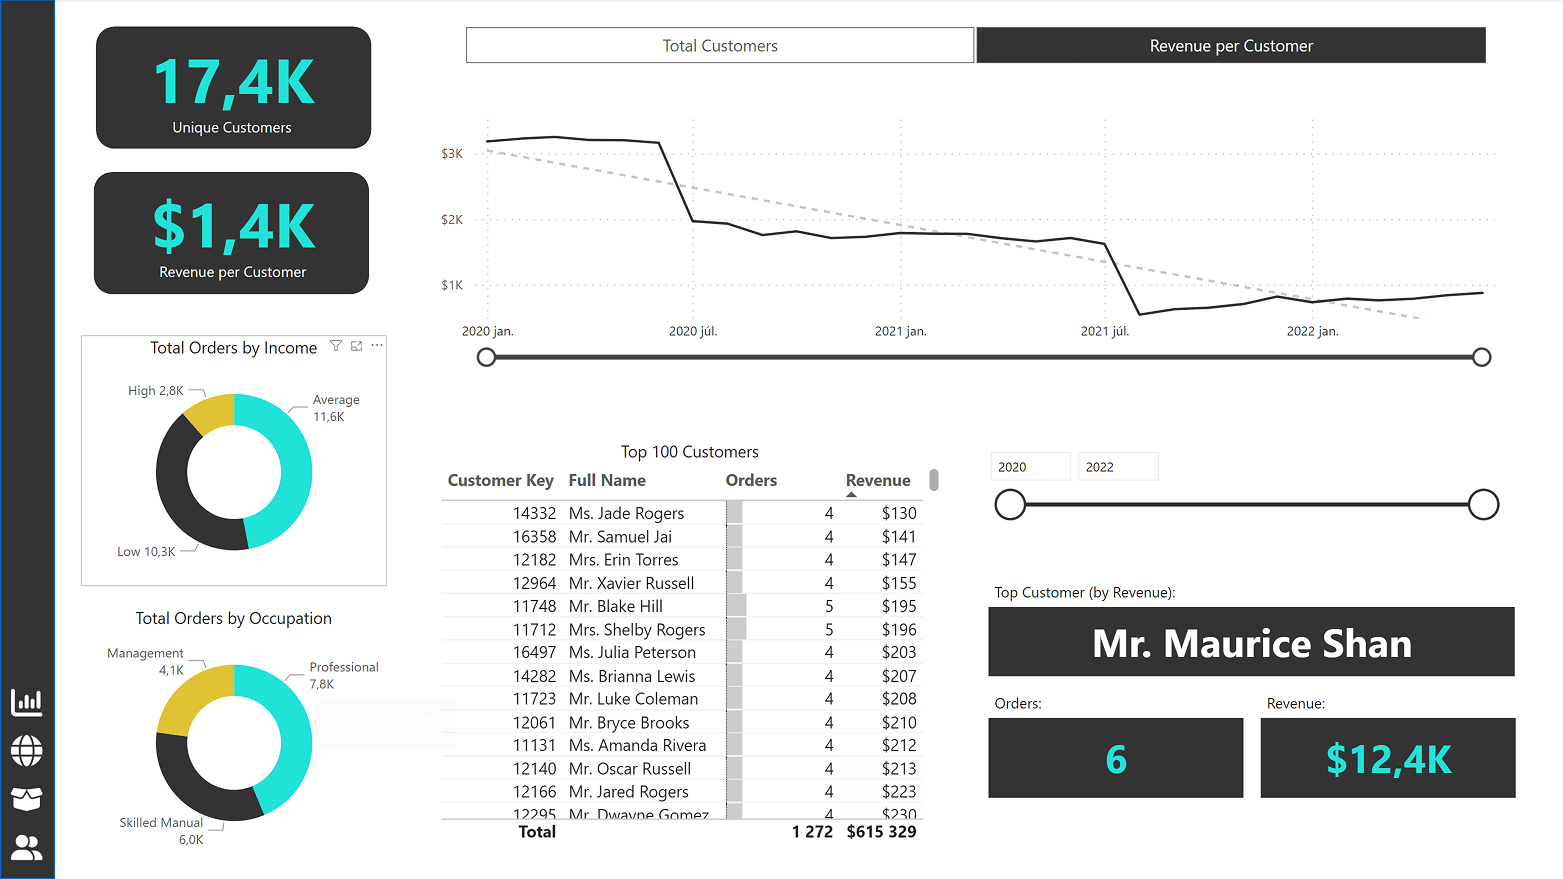

The dashboard page shown, as its layout file describes it:
{"tool":"powerbi","page":{"name":"Customer Detail","canvas":[1280,720],"ordinal":3},"visuals":[{"type":"shape","box":[0,0,45,720],"z":0},{"type":"group","id":"g1","title":"KPIs","box":[76.4,22.1,227.9,218.6],"z":1000},{"type":"actionButton","box":[4.8,637.5,33.8,33.8],"z":1000,"group":"g4"},{"type":"group","id":"g2","title":"KPI Background","box":[76.4,22.1,227.4,219],"z":2000,"group":"g1"},{"type":"card","fields":{"Values":["Measure Table.Total Customers"]},"box":[86.2,23.4,206,95.3],"z":2000,"group":"g3"},{"type":"lineChart","title":"Weekly Customers","fields":{"Category":["Calendar Lookup.Start of Year Hierarchy.Year","Calendar Lookup.Start of Year Hierarchy.Start of Month","Calendar Lookup.Start of Year Hierarchy.Start of Week","Calendar Lookup.Start of Year Hierarchy.Date"],"Y":["Measure Table.Total Customers"]},"box":[355.4,84.6,884.6,219.2],"z":2000},{"type":"shape","box":[76.4,141.1,225.3,100],"z":2000,"group":"g2"},{"type":"actionButton","box":[4.7,598,33.8,33.8],"z":2000,"group":"g4"},{"type":"shape","box":[78.4,22.1,225.3,100],"z":3000,"group":"g2"},{"type":"group","id":"g3","title":"KPI Values","box":[86.2,23.4,206.8,213.5],"z":3000,"group":"g1"},{"type":"card","fields":{"Values":["Measure Table.Average Revenue per Customer"]},"box":[87,141.6,206,95.3],"z":3000,"group":"g3"},{"type":"donutChart","title":"Total Orders by Income","fields":{"Category":["Customer Lookup.Income Level"],"Y":["Measure Table.Total Orders"]},"box":[66.3,275,250,205],"z":3000},{"type":"actionButton","box":[4.6,558.5,33.8,33.8],"z":3000,"group":"g4"},{"type":"donutChart","title":"Total Orders by Occupation","fields":{"Category":["Customer Lookup.Occupation"],"Y":["Measure Table.Total Orders"]},"box":[66.3,496.4,250,205],"z":4000},{"type":"actionButton","box":[4.9,677,33.8,33.8],"z":4000,"group":"g4"},{"type":"tableEx","title":"Top 100 Customers","fields":{"Values":["Customer Lookup.CustomerKey","Customer Lookup.Full Name","Measure Table.Total Orders","Measure Table.Total Revenue"]},"box":[355.4,360,418.5,333.8],"z":5000},{"type":"card","fields":{"Values":["Min(Customer Lookup.Full Name)"]},"box":[809.2,497.1,430.8,56.9],"z":6000},{"type":"textbox","box":[809.2,469.4,261.5,27.7],"z":7000},{"type":"textbox","box":[809.2,560.1,69.2,31.5],"z":8000},{"type":"card","fields":{"Values":["Measure Table.Total Orders"]},"box":[809.2,587.8,208.5,65.4],"z":9000},{"type":"card","fields":{"Values":["Measure Table.Total Revenue"]},"box":[1031.5,587.8,208.5,65.4],"z":10000},{"type":"textbox","box":[1031.5,560.1,104.6,31.5],"z":11000},{"type":"slicer","fields":{"Values":["Calendar Lookup.Year"]},"box":[797.7,360,436.9,71.5],"z":12000},{"type":"group","id":"g4","title":"Navigation Buttons","box":[4.6,558.5,34.1,152.3],"z":13000},{"type":"slicer","fields":{"Values":["Customer Metric Selection.Customer Metric Selection"]},"box":[355.4,15.4,884.6,43.8],"z":13001}]}

Visuals, with their boxes on the page's 1280x720 design canvas (x1, y1, x2, y2). These are canvas units, not pixel positions in the 1563x879 screenshot, which may show the page scaled, cropped or inside an application window:
shape: 0,0,45,720
"KPIs" group: 76,22,304,241
actionButton: 5,638,39,671
"KPI Background" group: 76,22,304,241
card - Measure Table.Total Customers: 86,23,292,119
"Weekly Customers" lineChart: 355,85,1240,304
shape: 76,141,302,241
actionButton: 5,598,38,632
shape: 78,22,304,122
"KPI Values" group: 86,23,293,237
card - Measure Table.Average Revenue per Customer: 87,142,293,237
"Total Orders by Income" donutChart: 66,275,316,480
actionButton: 5,558,38,592
"Total Orders by Occupation" donutChart: 66,496,316,701
actionButton: 5,677,39,711
"Top 100 Customers" tableEx: 355,360,774,694
card - Min(Customer Lookup.Full Name): 809,497,1240,554
textbox: 809,469,1071,497
textbox: 809,560,878,592
card - Measure Table.Total Orders: 809,588,1018,653
card - Measure Table.Total Revenue: 1032,588,1240,653
textbox: 1032,560,1136,592
slicer - Calendar Lookup.Year: 798,360,1235,432
"Navigation Buttons" group: 5,558,39,711
slicer - Customer Metric Selection.Customer Metric Selection: 355,15,1240,59
